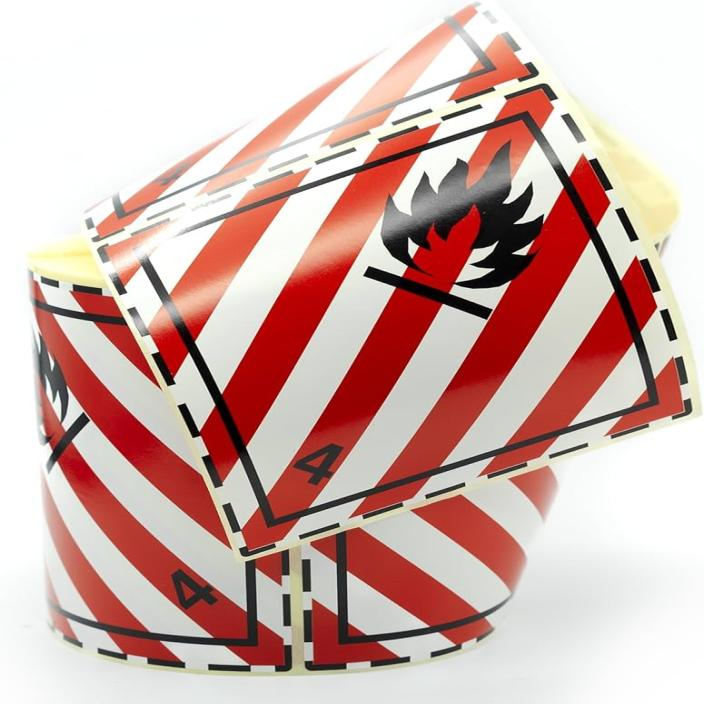chair: (105, 70, 684, 560)
